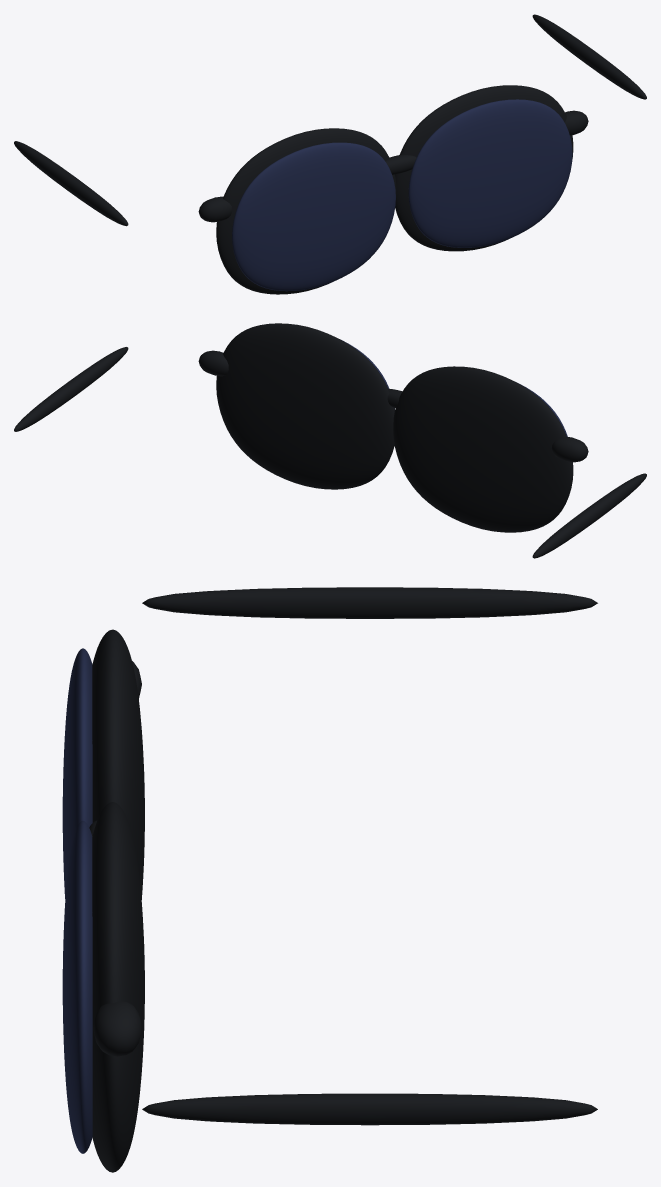
Rendered from sunglasses.glb.
3 views of the same model, one above another, from view 1: azimuth 30°, elevation 25°; view 2: azimuth 150°, elevation 25°; view 3: azimuth 270°, elevation 25° (orthographic). The views are drawn at different scales.
Parts seen in each view (by area): view 1: ACC_sun_lens1, ACC_sun_lens-1, ACC_sun_frame-1, ACC_sun_frame1, ACC_sun_arm1, ACC_sun_arm-1, ACC_sun_hinge-1, ACC_sun_bridge, ACC_sun_hinge1; view 2: ACC_sun_frame1, ACC_sun_frame-1, ACC_sun_arm-1, ACC_sun_arm1, ACC_sun_hinge-1, ACC_sun_hinge1; view 3: ACC_sun_frame1, ACC_sun_arm-1, ACC_sun_arm1, ACC_sun_frame-1, ACC_sun_lens1, ACC_sun_lens-1, ACC_sun_hinge1.
Part boxes in pixels (left/top/right/bottom): ACC_sun_lens1: left=408, top=99, right=572, bottom=247; ACC_sun_lens-1: left=232, top=142, right=395, bottom=291; ACC_sun_frame-1: left=216, top=128, right=396, bottom=294; ACC_sun_frame1: left=395, top=85, right=573, bottom=251; ACC_sun_arm1: left=532, top=14, right=646, bottom=99; ACC_sun_arm-1: left=14, top=141, right=128, bottom=226; ACC_sun_hinge-1: left=198, top=196, right=232, bottom=222; ACC_sun_bridge: left=385, top=154, right=416, bottom=174; ACC_sun_hinge1: left=565, top=110, right=588, bottom=135; ACC_sun_frame1: left=216, top=323, right=394, bottom=489; ACC_sun_frame-1: left=393, top=366, right=573, bottom=532; ACC_sun_arm-1: left=532, top=473, right=646, bottom=558; ACC_sun_arm1: left=14, top=347, right=128, bottom=431; ACC_sun_hinge-1: left=551, top=437, right=588, bottom=462; ACC_sun_hinge1: left=198, top=350, right=228, bottom=376; ACC_sun_frame1: left=92, top=802, right=144, bottom=1172; ACC_sun_arm-1: left=142, top=587, right=597, bottom=618; ACC_sun_arm1: left=142, top=1093, right=597, bottom=1125; ACC_sun_frame-1: left=92, top=629, right=144, bottom=899; ACC_sun_lens1: left=62, top=821, right=92, bottom=1153; ACC_sun_lens-1: left=62, top=648, right=92, bottom=898; ACC_sun_hinge1: left=93, top=1001, right=141, bottom=1056.
Bounding box in the file's own units: 1.24 × 0.3544 × 0.5411.
